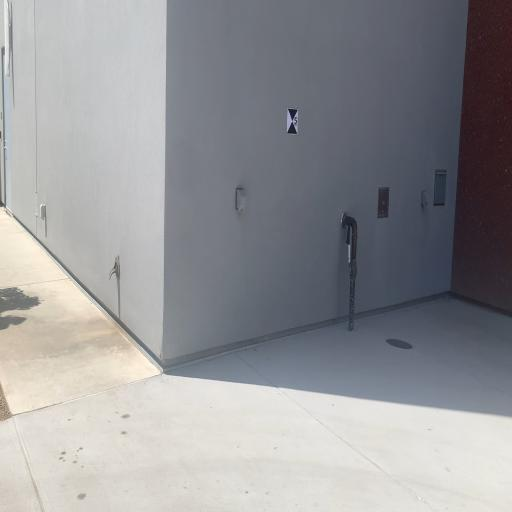target5: (288, 107, 298, 134)
